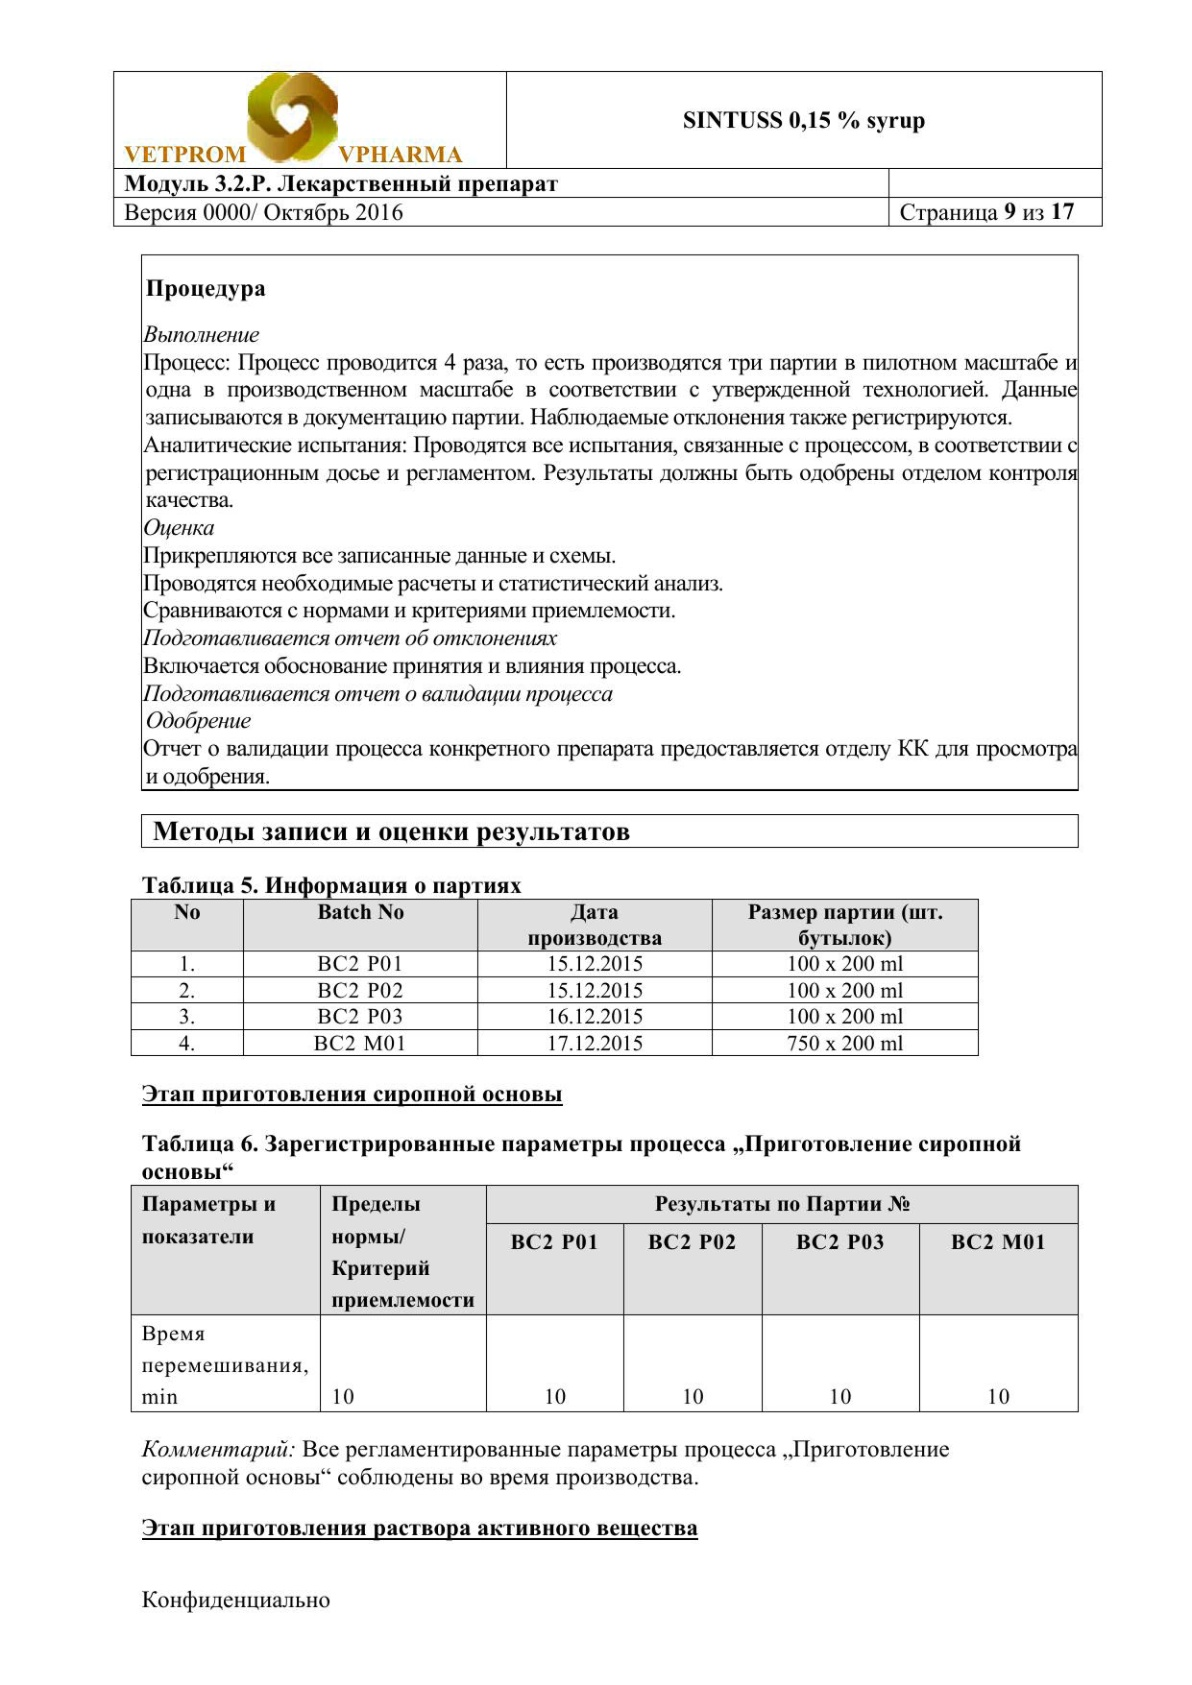full_lined: (129, 897, 980, 1057)
merged_cells: (128, 1181, 1080, 1414), (110, 68, 1104, 230)
